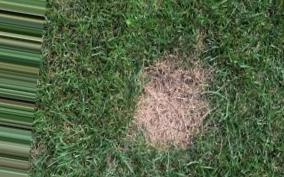patch: (134, 54, 211, 146)
